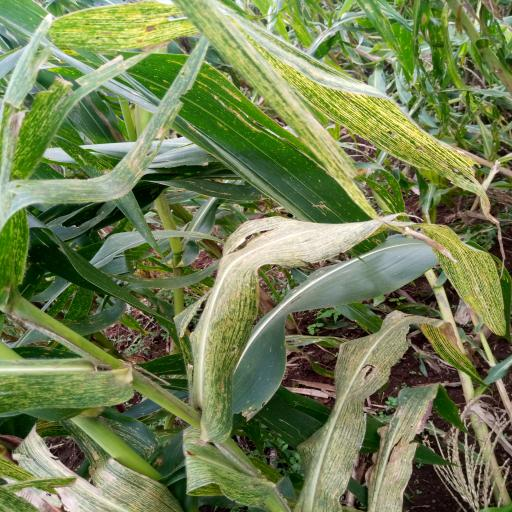Corn_Streak: (17, 0, 488, 212), (196, 210, 508, 431)
